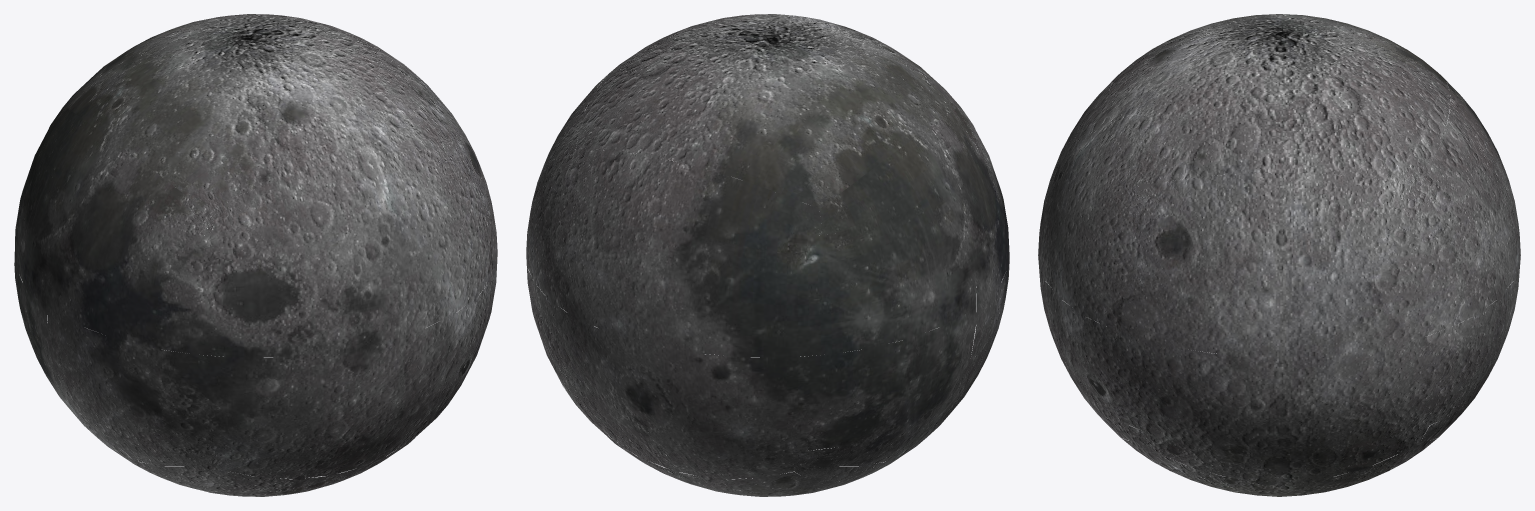
File: Moon_1_3474.glb
3 views of the same model, side by side, from view 1: azimuth 30°, elevation 25°; view 2: azimuth 150°, elevation 25°; view 3: azimuth 270°, elevation 25° (orthographic).
Parts seen in each view (by area): view 1: Cube.008; view 2: Cube.008; view 3: Cube.008.
Part boxes in pixels (x1,y1,x2,y2): Cube.008: (14,14,497,496); Cube.008: (526,14,1009,496); Cube.008: (1038,14,1520,496).
Bounding box in the file's own units: 1000 × 999 × 1000.
1 material, 1 textured.
